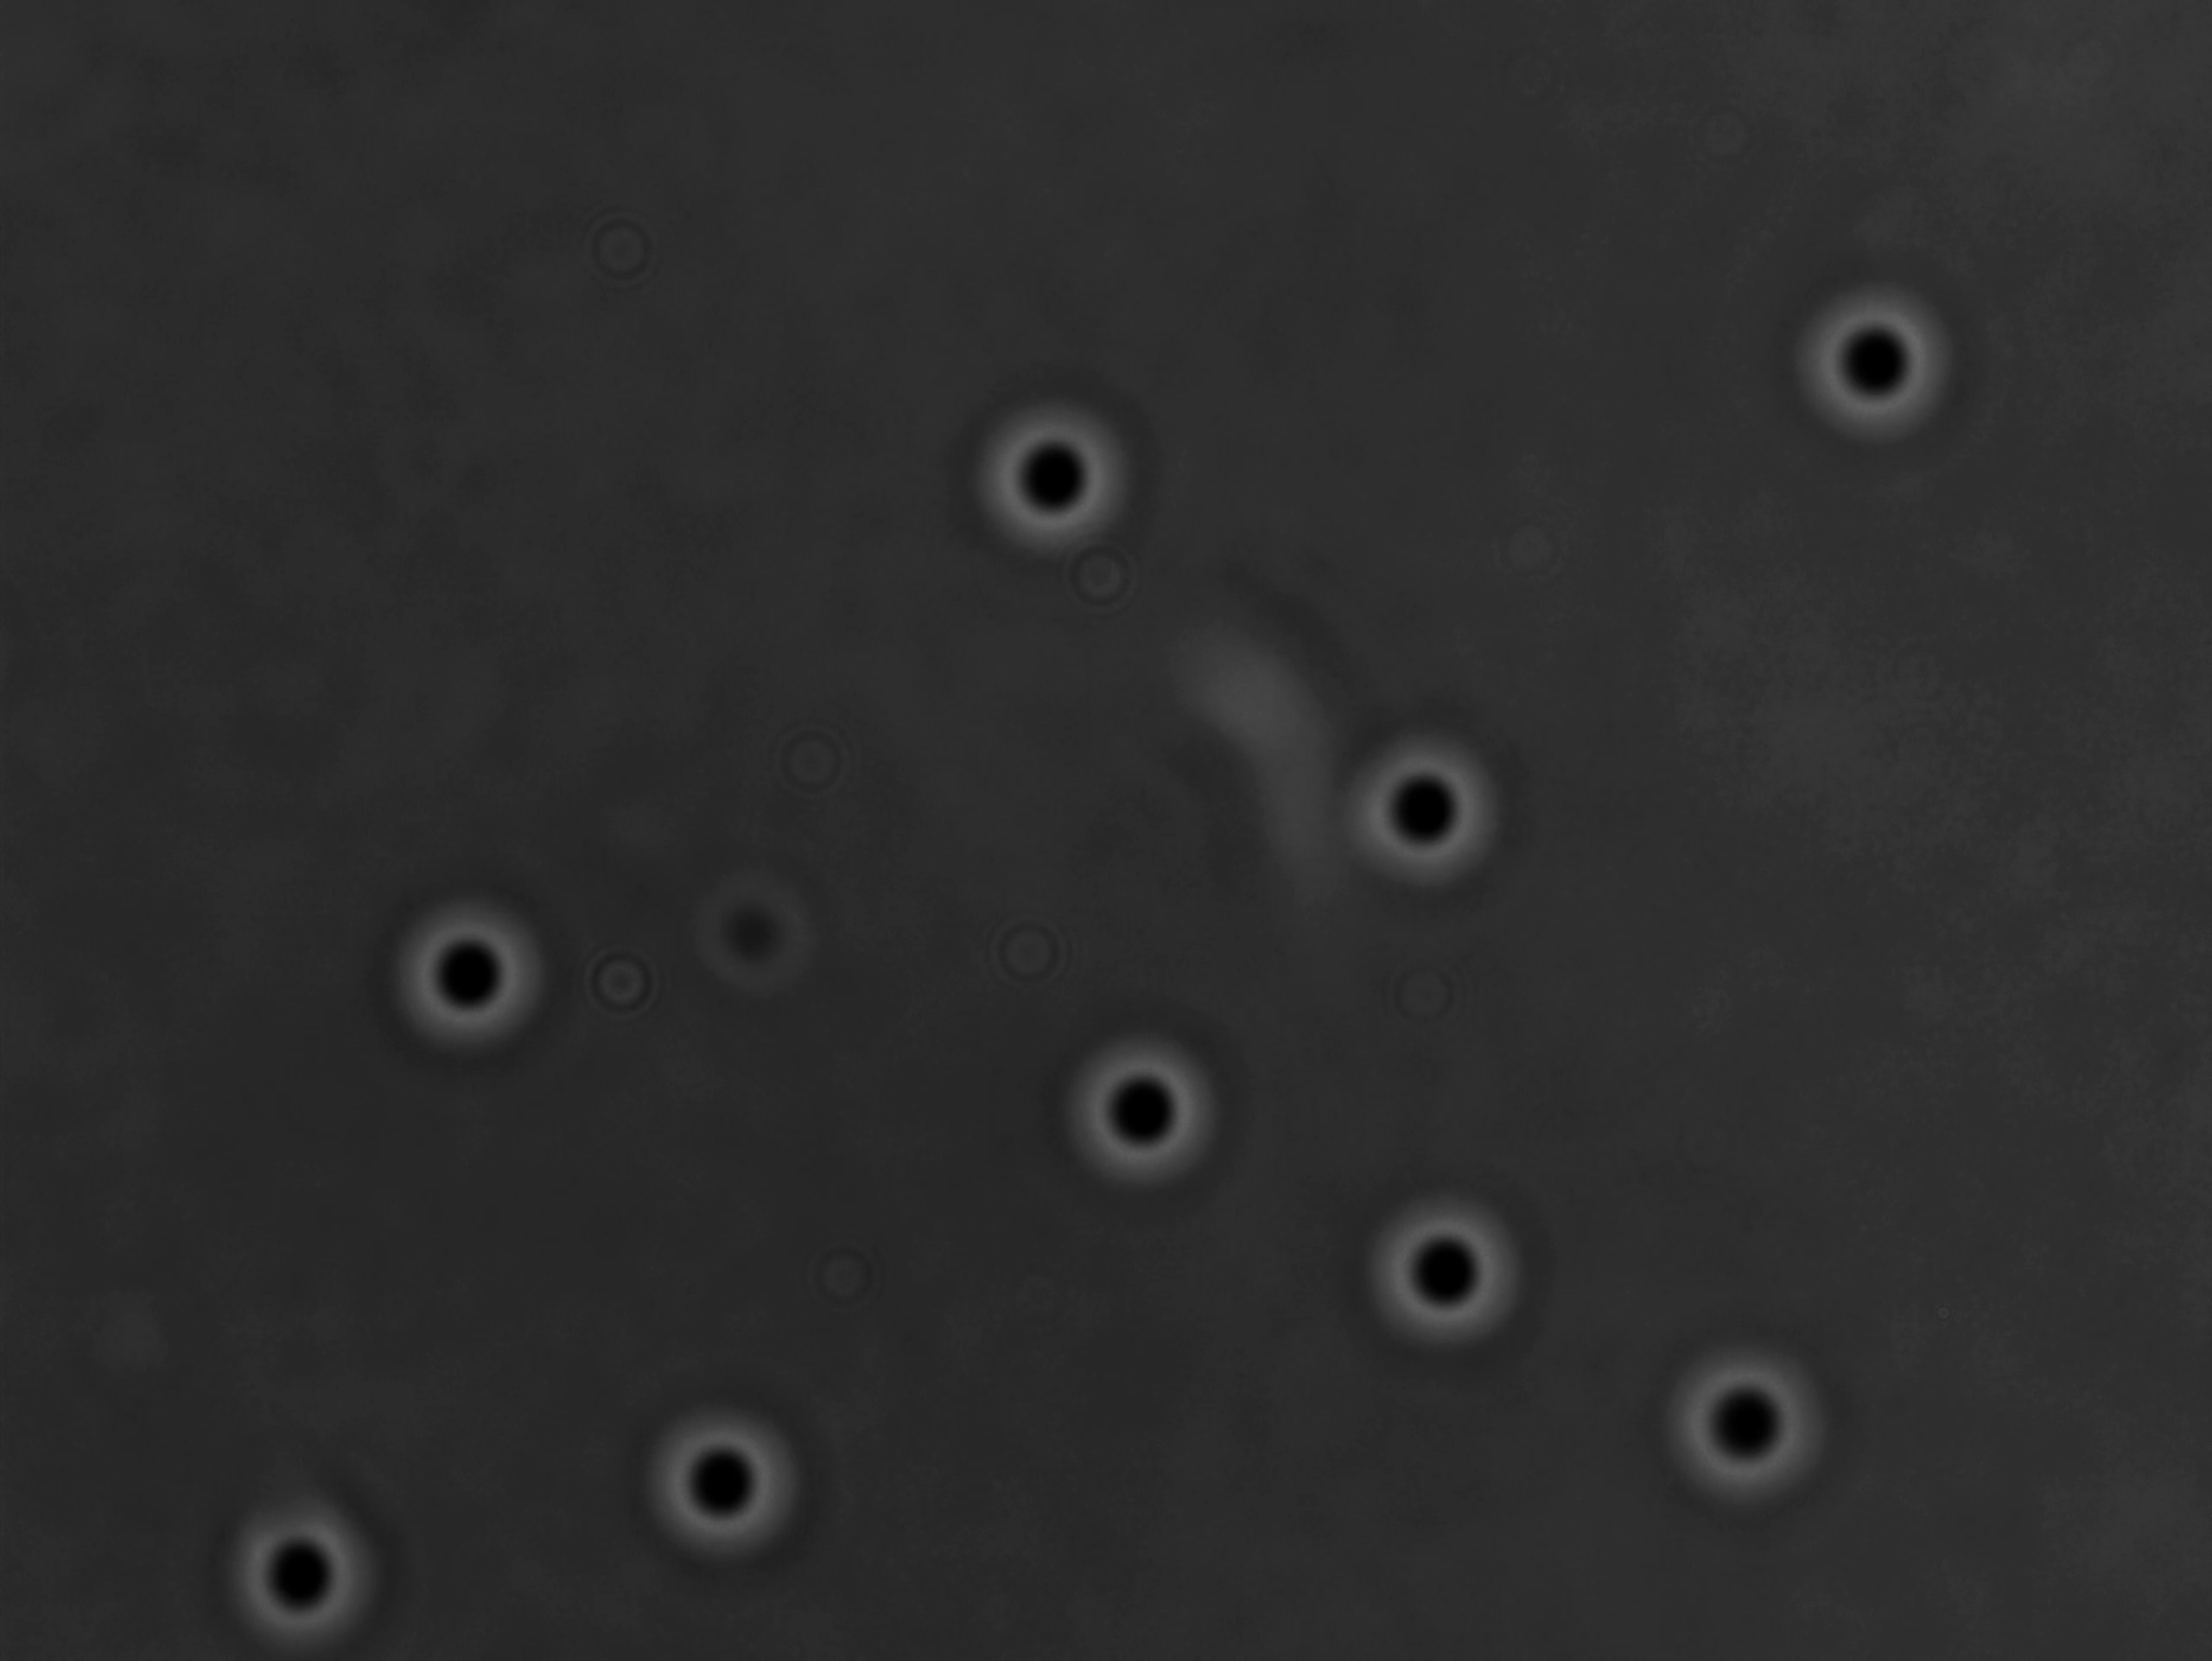depth:-80: (377, 878, 572, 1070), (966, 379, 1155, 578), (1778, 277, 1968, 468), (635, 1394, 829, 1574), (1340, 726, 1516, 913), (1052, 1022, 1228, 1204), (218, 1485, 403, 1658), (1359, 1186, 1537, 1361), (1654, 1335, 1828, 1511)
